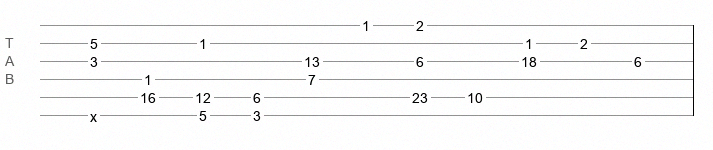1: (144, 72, 152, 82), (199, 36, 207, 46), (362, 18, 370, 28), (525, 36, 533, 46)
10: (467, 90, 483, 100)
12: (195, 90, 211, 100)
13: (304, 54, 320, 64)
16: (140, 90, 156, 100)
18: (521, 54, 537, 64)
2: (416, 18, 424, 28), (580, 36, 588, 46)
23: (412, 90, 428, 100)
3: (90, 54, 98, 64), (253, 108, 261, 118)
5: (90, 36, 98, 46), (199, 108, 207, 118)
6: (253, 90, 261, 100), (416, 54, 424, 64), (634, 54, 642, 64)
7: (308, 72, 316, 82)
x: (90, 109, 97, 117)
